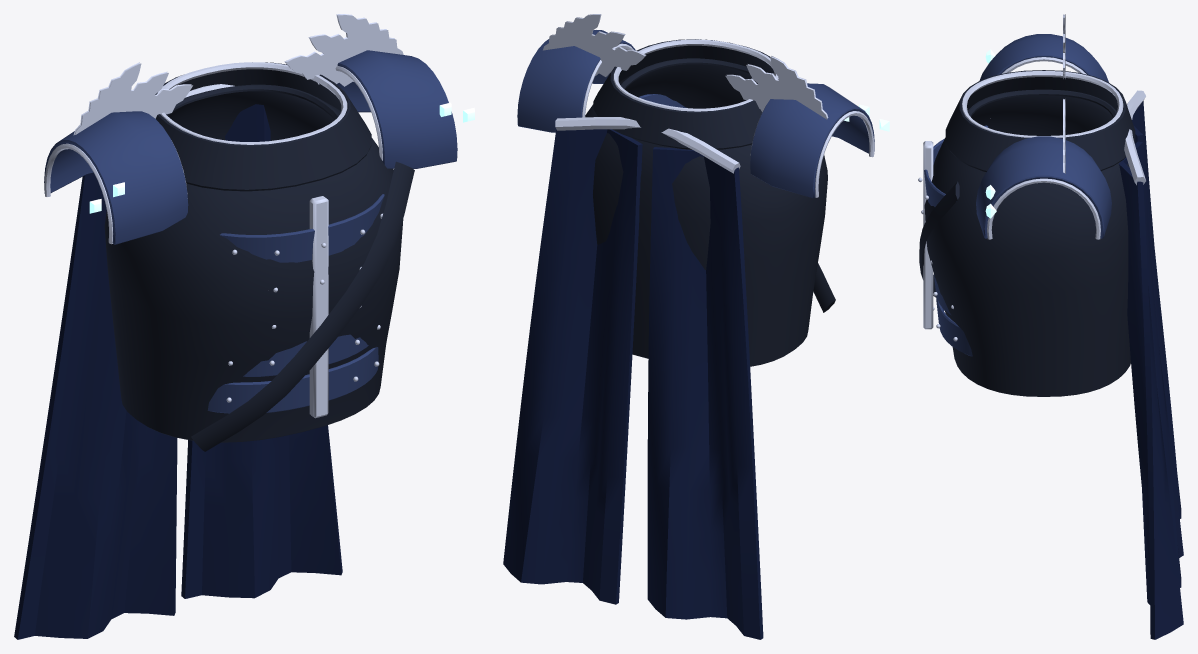
File: asc_comet_strider_armor.glb
3 renders of one model, left to right at view 1: azimuth 30°, elevation 25°; view 2: azimuth 150°, elevation 25°; view 3: azimuth 270°, elevation 25°, orthographic. The views are drawn at different scales.
Visible parts, largest first — view 1: asc_comet_strider_armor, AT_upper_arm_R, AT_upper_arm_L; view 2: asc_comet_strider_armor, AT_upper_arm_R, AT_upper_arm_L; view 3: asc_comet_strider_armor, AT_upper_arm_L, AT_upper_arm_R.
Boxes of the visible parts, left/top/right/bottom form: asc_comet_strider_armor: left=14, top=62, right=474, bottom=639; AT_upper_arm_R: left=44, top=62, right=192, bottom=244; AT_upper_arm_L: left=284, top=14, right=457, bottom=168; asc_comet_strider_armor: left=503, top=39, right=889, bottom=639; AT_upper_arm_R: left=725, top=56, right=874, bottom=198; AT_upper_arm_L: left=517, top=14, right=646, bottom=132; asc_comet_strider_armor: left=918, top=49, right=1183, bottom=639; AT_upper_arm_L: left=976, top=98, right=1111, bottom=239; AT_upper_arm_R: left=979, top=14, right=1108, bottom=118.
Size of the model in its own units: 0.7426 by 1.13 by 0.5243.
